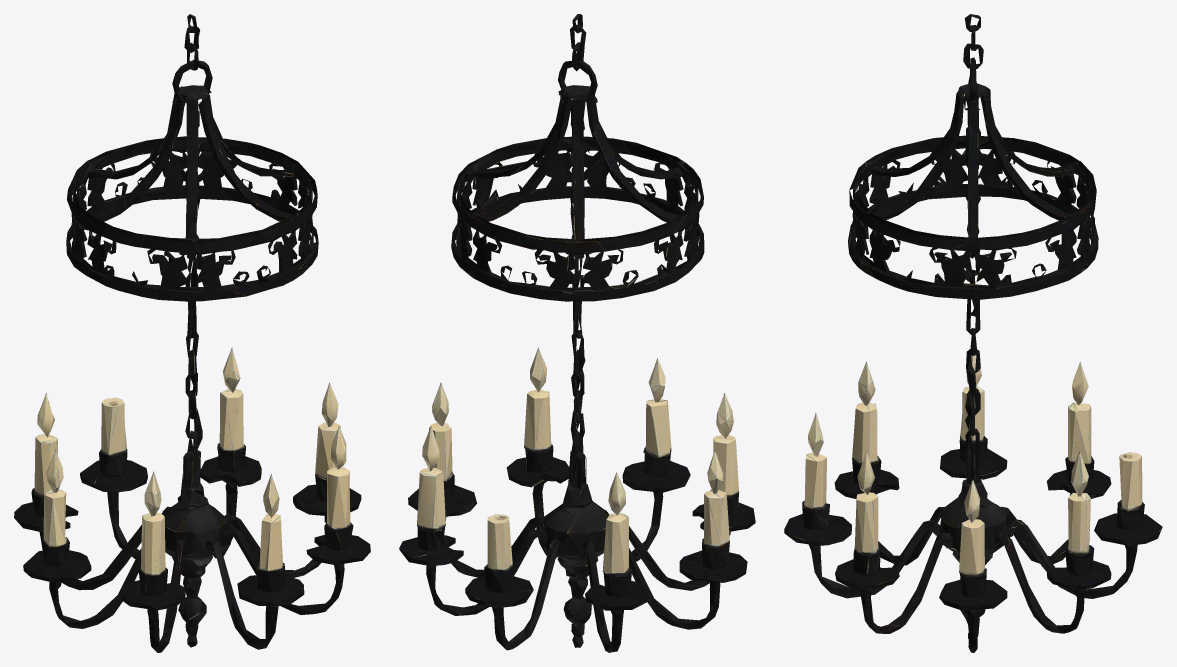
The model's file is chandelier.glb.
The picture shows the model from 3 angles, left to right: view 1: azimuth 30°, elevation 25°; view 2: azimuth 150°, elevation 25°; view 3: azimuth 270°, elevation 25°; orthographic projection.
Size of the model in its own units: 1.03 by 1.9 by 1.04.
1 material, 1 textured.
